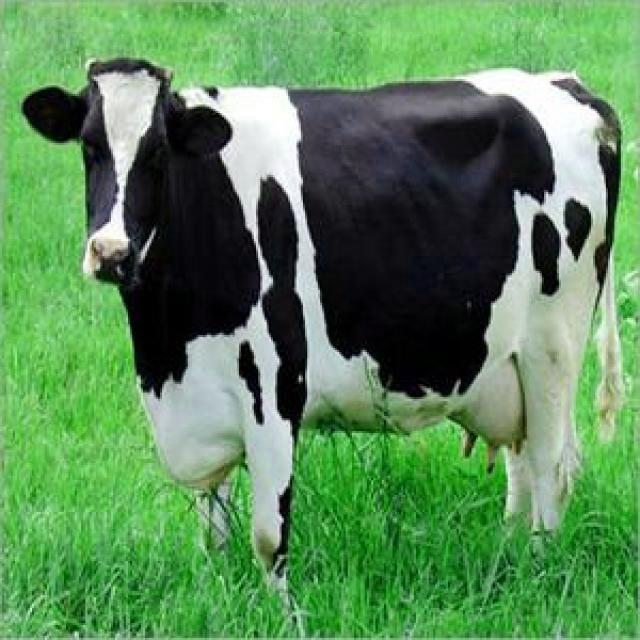cow: (24, 59, 621, 586)
